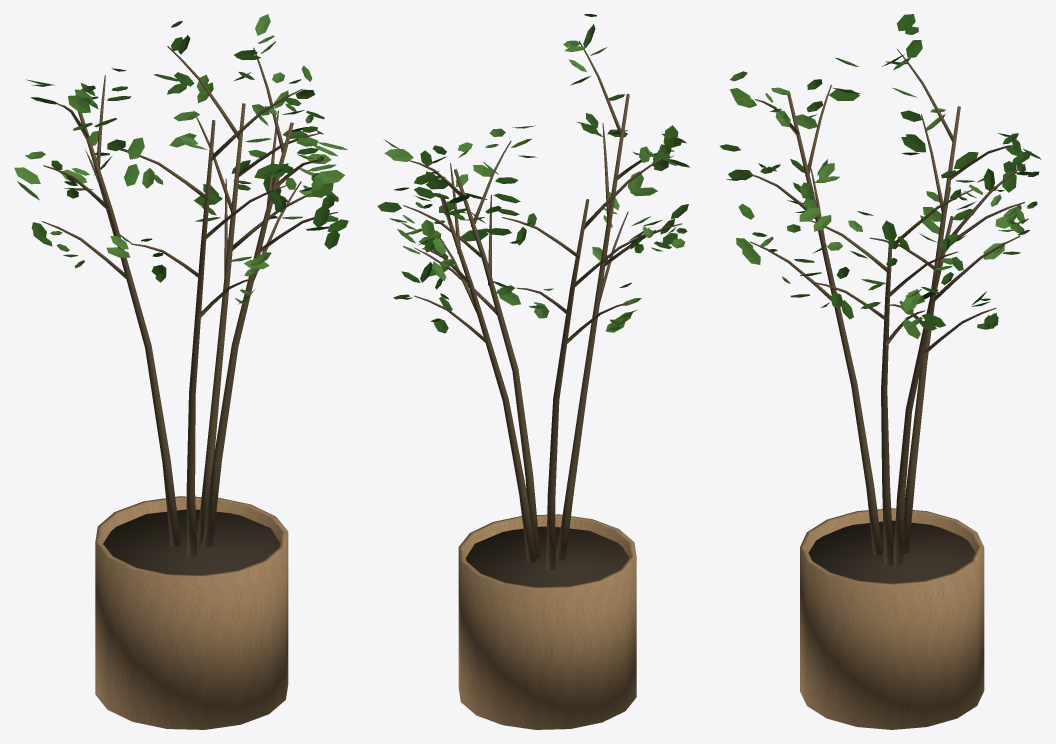
3 renders of one model, left to right at view 1: azimuth 30°, elevation 25°; view 2: azimuth 150°, elevation 25°; view 3: azimuth 270°, elevation 25°, orthographic. The views are drawn at different scales.
Parts seen in each view (by area): view 1: Cylindrical oak planter with open rim, Main woody stem 0, Individual small leaves, species unspecified, Visible dark soil; view 2: Cylindrical oak planter with open rim, Main woody stem 0, Individual small leaves, species unspecified, Visible dark soil; view 3: Cylindrical oak planter with open rim, Main woody stem 0, Individual small leaves, species unspecified, Visible dark soil.
Part boxes in pixels (x1=…): Cylindrical oak planter with open rim: x1=95, y1=496, x2=288, y2=729; Main woody stem 0: x1=41, y1=46, x2=337, y2=556; Individual small leaves, species unspecified: x1=14, y1=14, x2=348, y2=304; Visible dark soil: x1=103, y1=509, x2=280, y2=575; Cylindrical oak planter with open rim: x1=458, y1=514, x2=636, y2=729; Main woody stem 0: x1=403, y1=40, x2=682, y2=570; Individual small leaves, species unspecified: x1=377, y1=14, x2=689, y2=333; Visible dark soil: x1=466, y1=526, x2=629, y2=587; Cylindrical oak planter with open rim: x1=800, y1=508, x2=984, y2=729; Main woody stem 0: x1=745, y1=49, x2=1025, y2=565; Individual small leaves, species unspecified: x1=719, y1=14, x2=1041, y2=338; Visible dark soil: x1=808, y1=520, x2=975, y2=583.
Bounding box in the file's own units: 0.7309 × 1.54 × 0.7069.
Materials: 7 (1 with a texture image).
